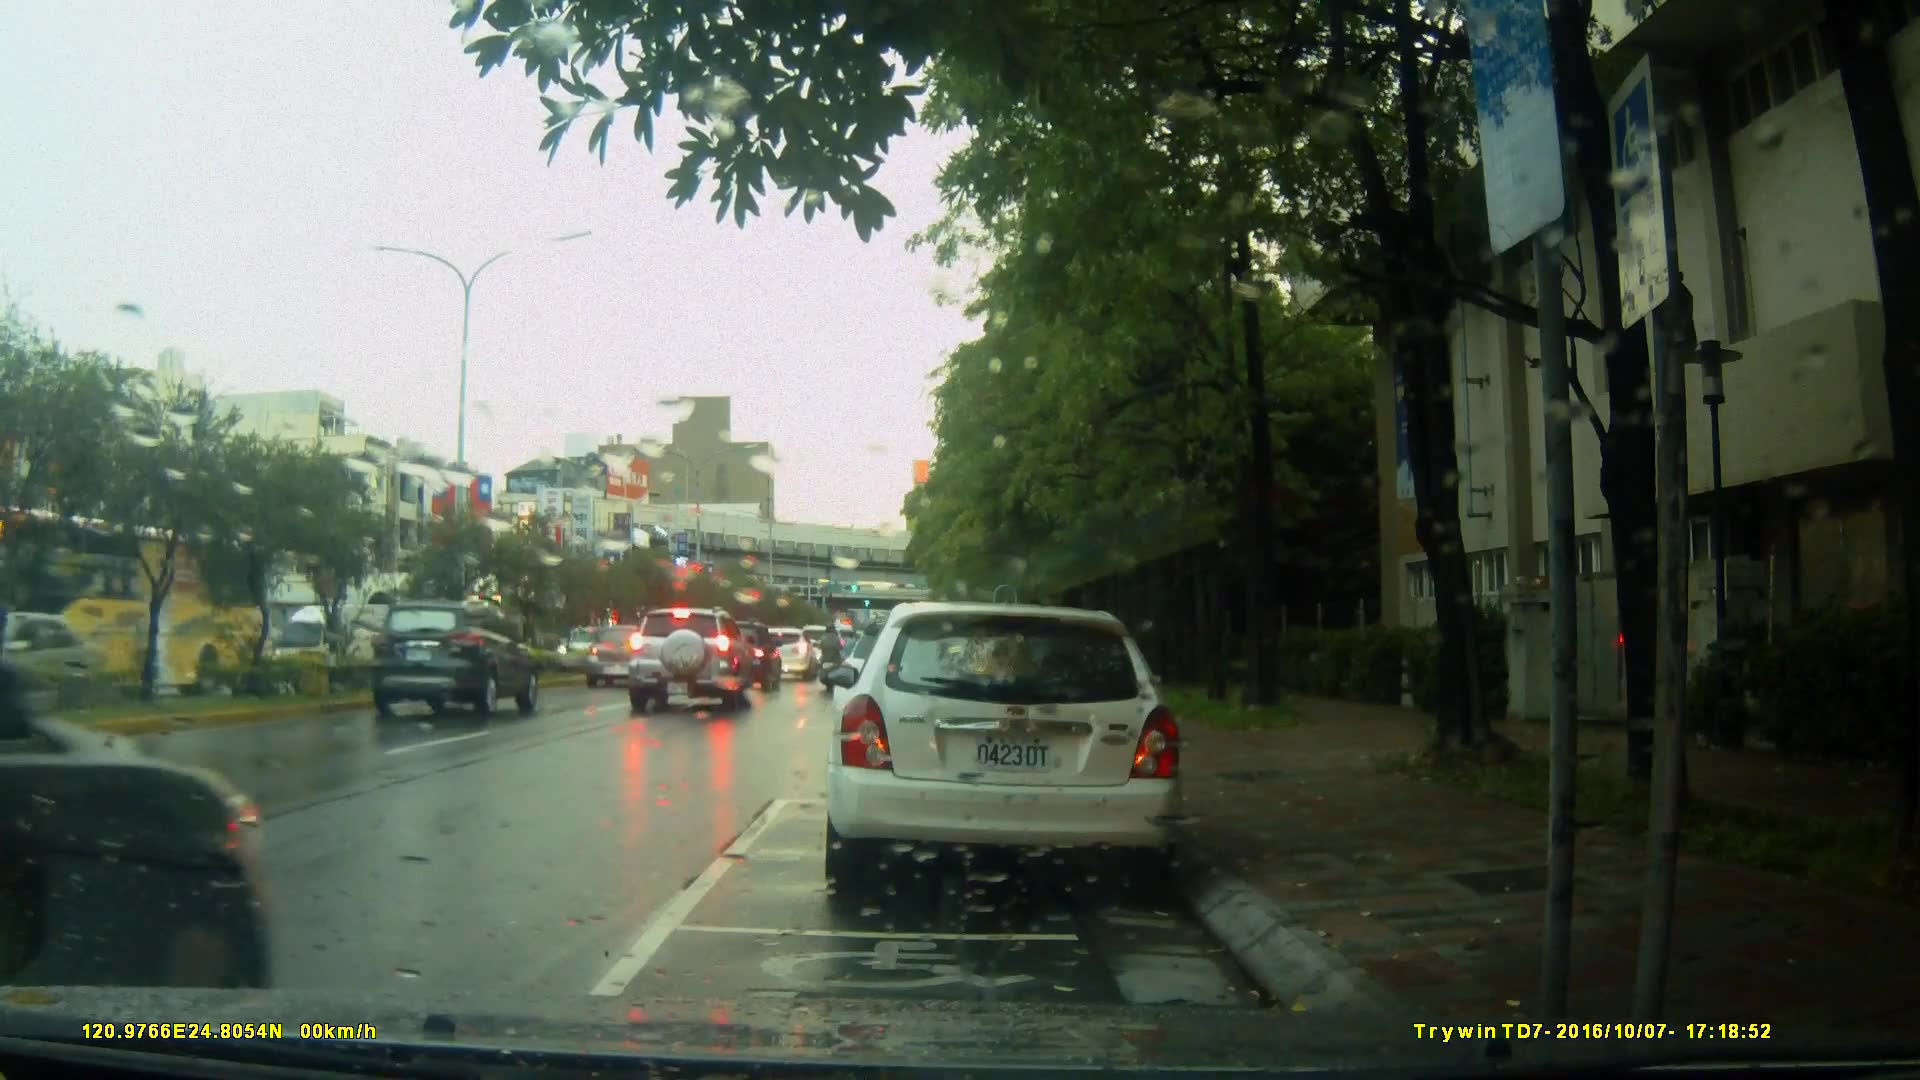rider: (814, 622, 849, 701)
vehicle: (1, 502, 271, 987), (820, 602, 1188, 898), (2, 528, 294, 686), (367, 595, 542, 718), (623, 606, 752, 717)
